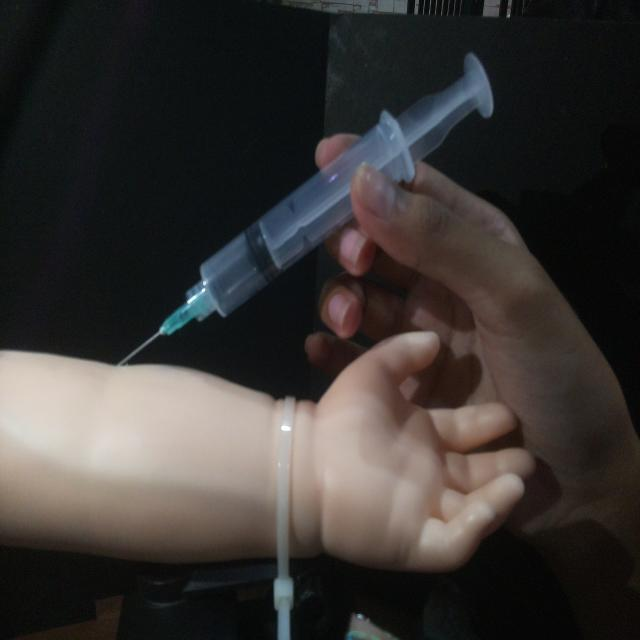30deg: (112, 48, 497, 369)
